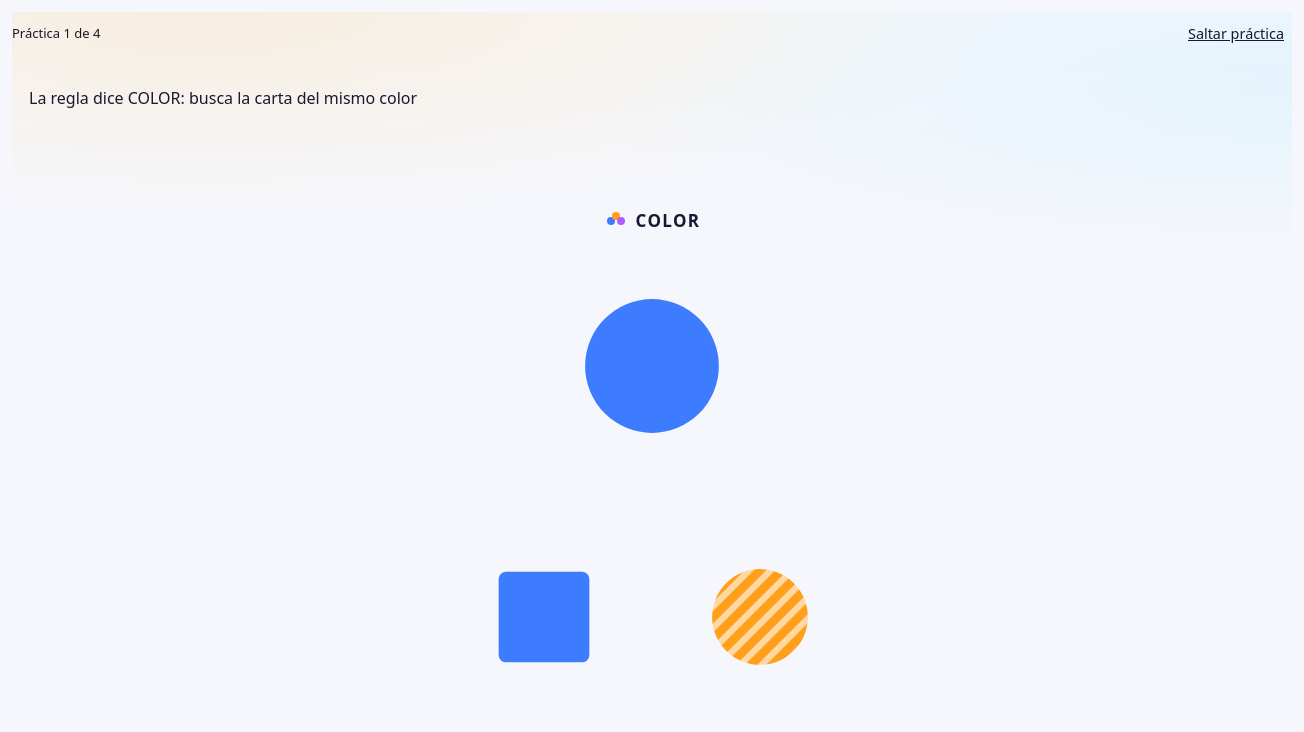
Scenario: round 1 shows the guide and a wrong answer hints at the color
The image size is (1304, 732).
Expected: the text "La regla dice COLOR: busca la carta del mismo color" is shown, [12,72,1292,124]
Step 1. Click the button with test id "target-right" → x=760, y=617, box [685,542,835,692]
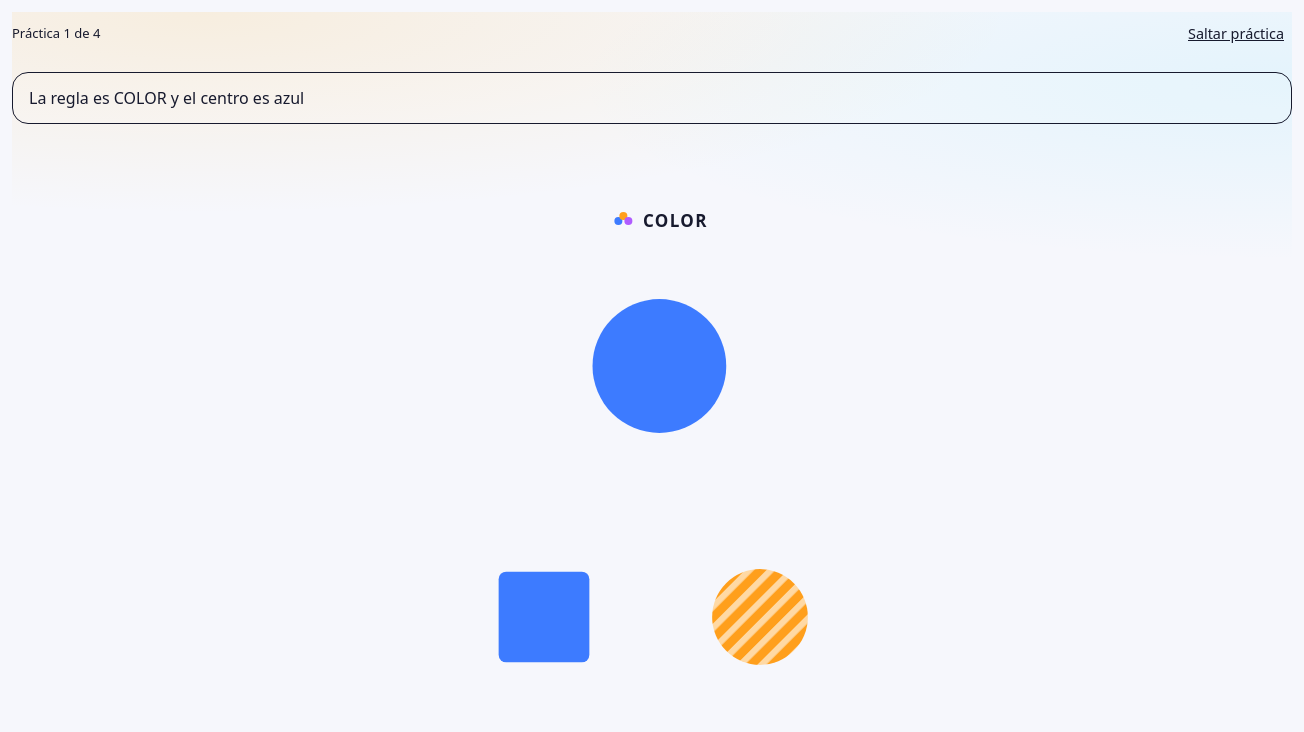
Expected: the text "Práctica 1 de 4" is shown, [12,24,100,44]
Now the text "La regla es COLOR y el centro es azul" is shown, box [12,72,1292,124]
